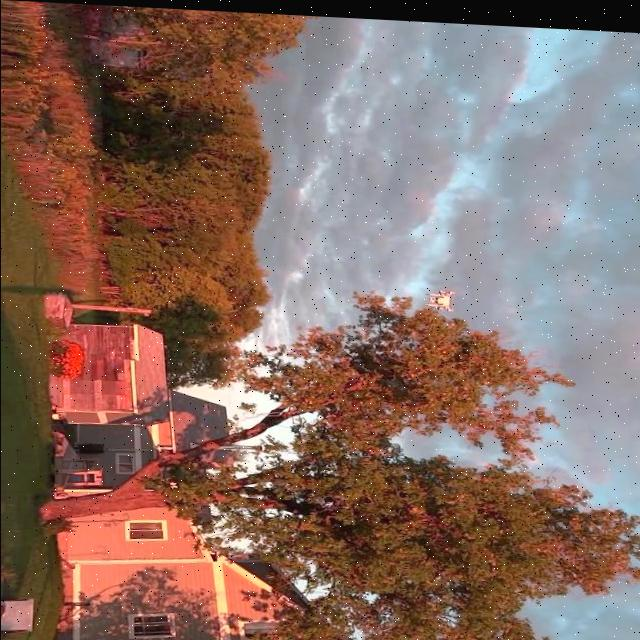drone: (427, 284, 457, 308)
